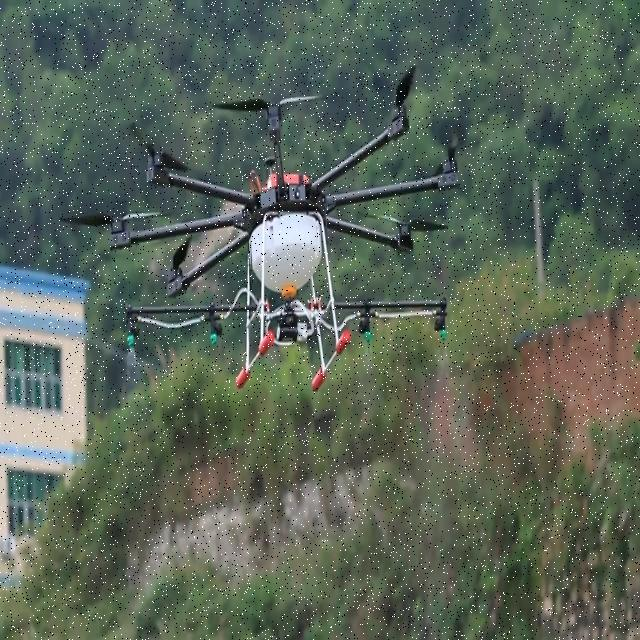UAV: (98, 70, 460, 393)
